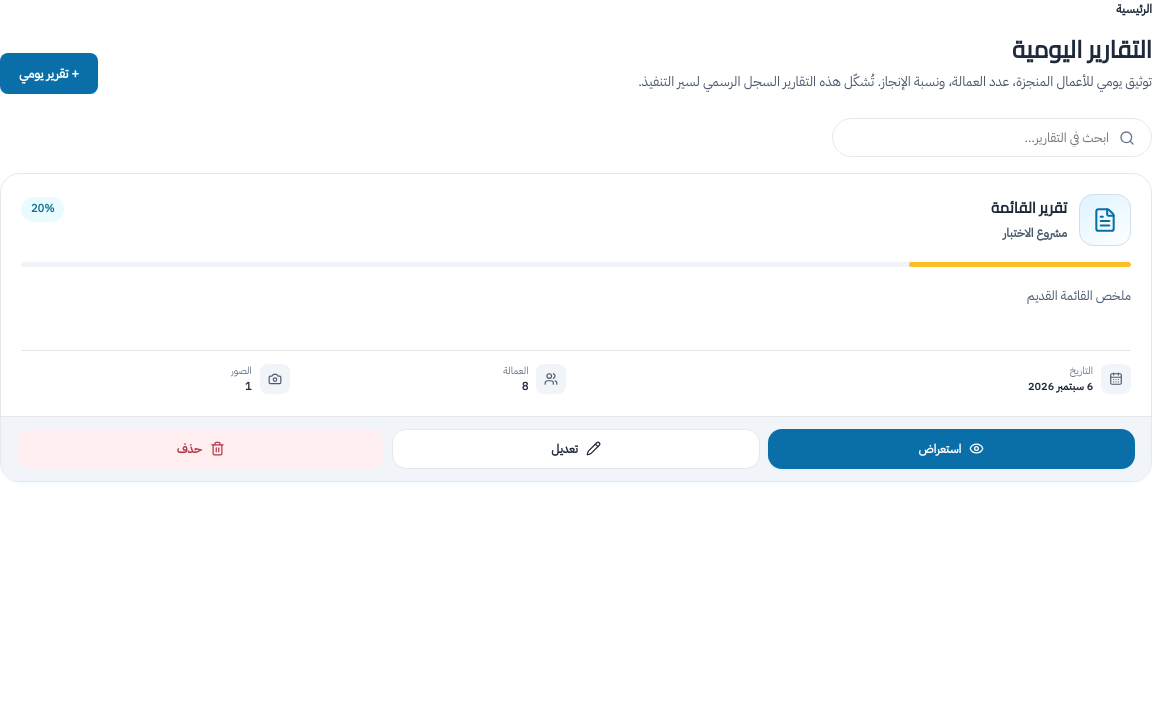
Test: DailyReportsPage detail and edit integration › loads the report detail from the API when استعراض is opened
Click the button "استعراض".
click(951, 448)  # box [768, 428, 1135, 468]
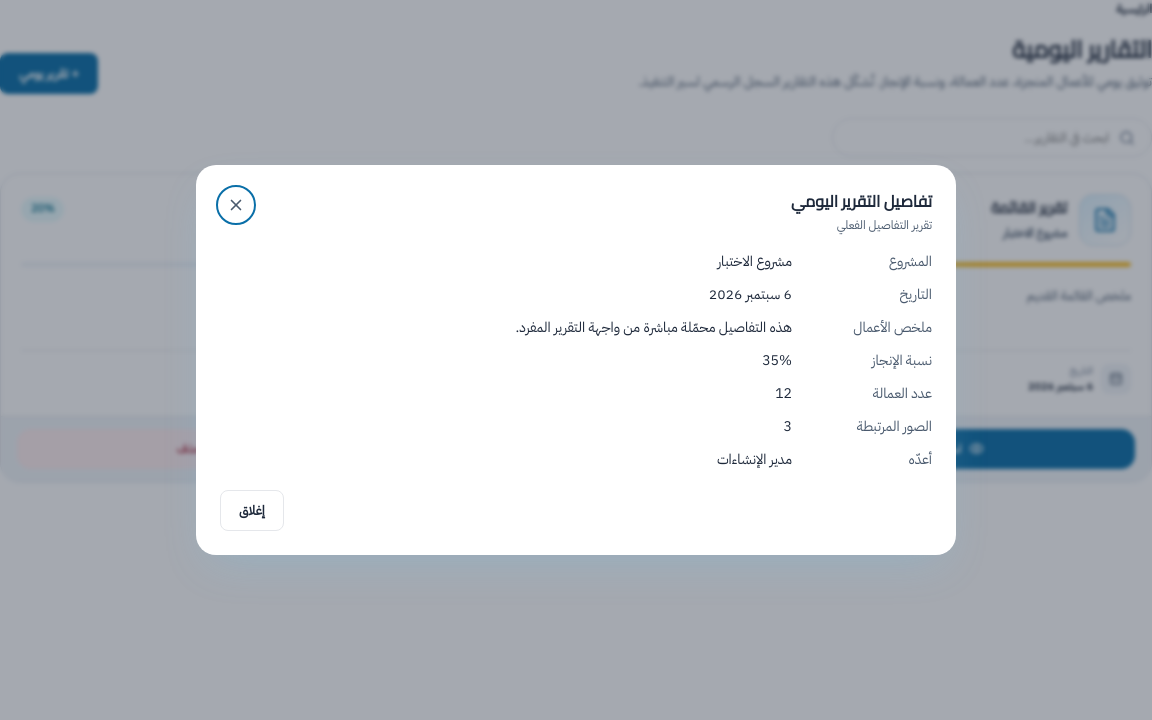
Result: the text "هذه التفاصيل محمّلة مباشرة من واجهة التقرير المفرد." is shown at [515, 317, 792, 338]
Result: the text "مدير الإنشاءات" is shown at [717, 449, 792, 470]
